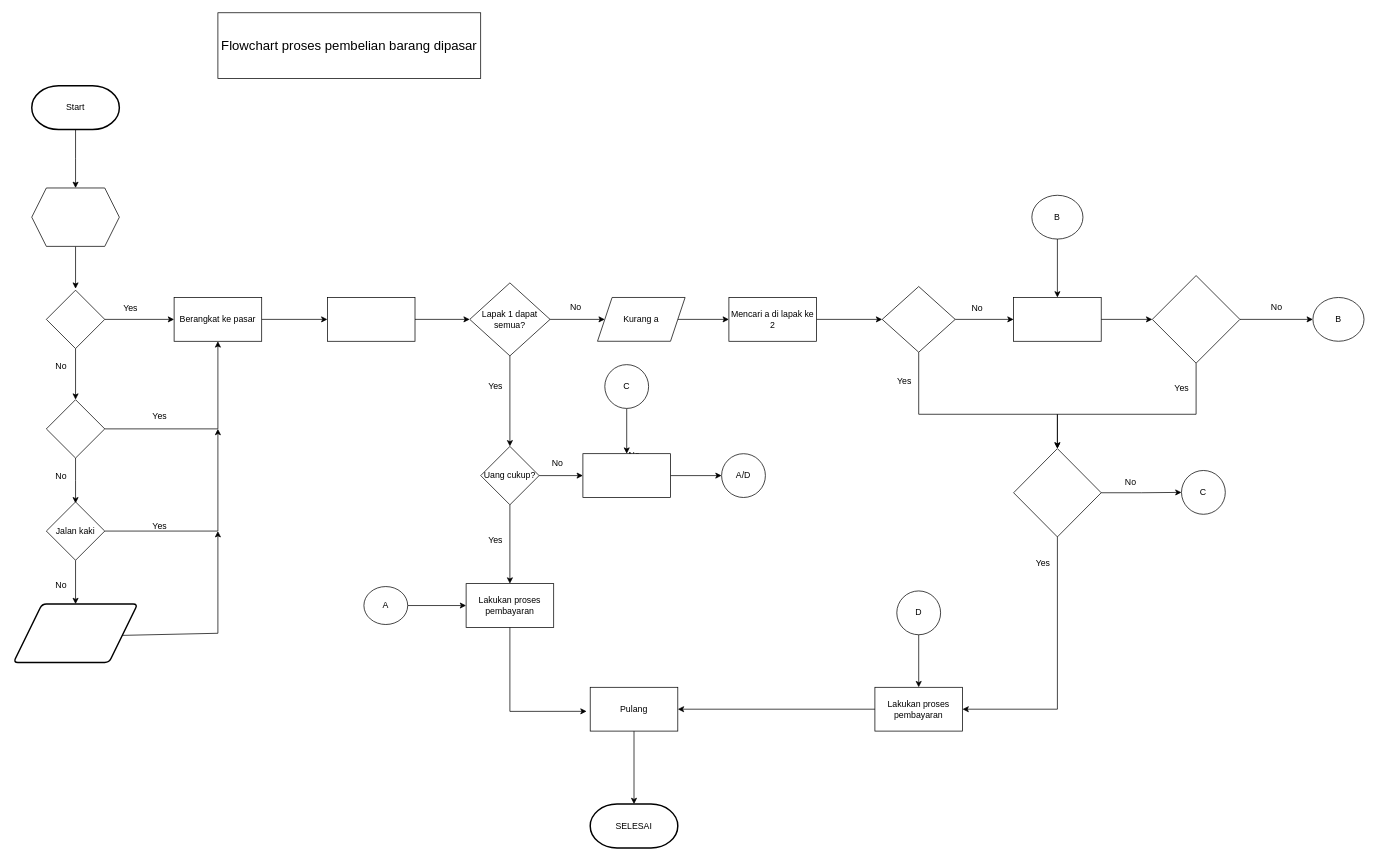
This 1377x861 diagram has some shape labels left out. Each missing label, with the centre of its shape:
1. Telur 2. Minyak 3. Gula: the point at 75,216
a didapatkan ?: the point at 918,319
Ambil di atm: the point at 626,475
Apakah uang cukup?: the point at 1057,492
lapak ke n dapat semua ?: the point at 1196,319
mencari a di lapak ke n: the point at 1057,319
Mencari semua di lapak 1: the point at 371,319
Motor: the point at 75,319
Naik angkutan umum: the point at 75,633
Sepeda: the point at 75,428
